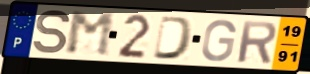2: (117, 12, 154, 60)
D: (151, 14, 196, 61)
G: (199, 18, 238, 63)
M: (65, 11, 116, 58)
R: (236, 19, 279, 65)
S: (32, 8, 72, 56)
